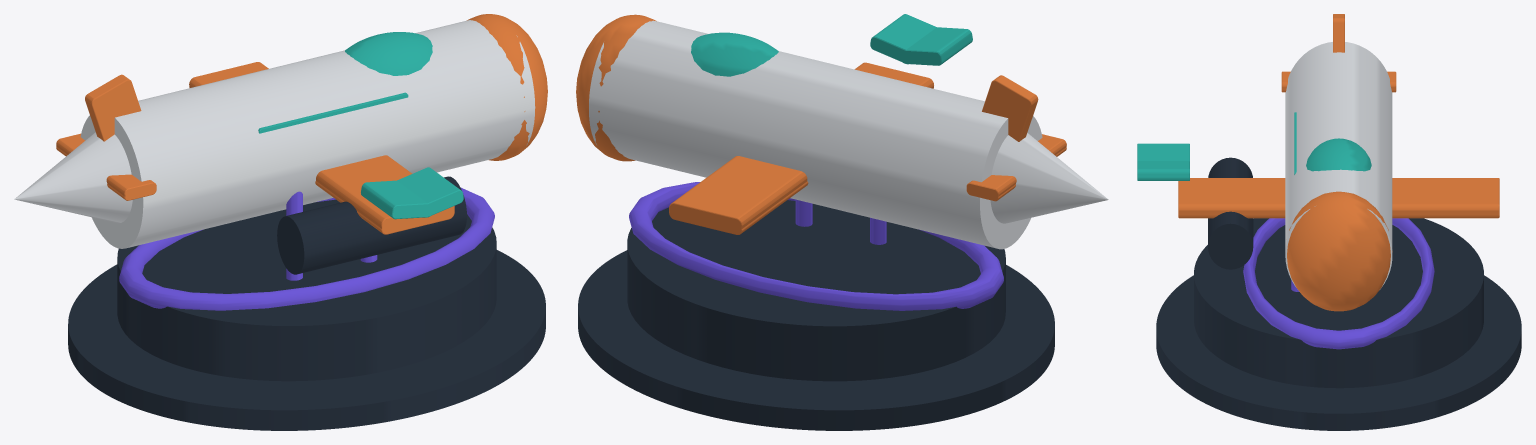
File: 0349_航空航天图鉴_Mavic航拍无人机.glb
3 renders of one model, left to right at view 1: azimuth 30°, elevation 25°; view 2: azimuth 150°, elevation 25°; view 3: azimuth 270°, elevation 25°, orthographic. The views are drawn at different scales.
Visible parts, largest first — view 1: card_0349; view 2: card_0349; view 3: card_0349.
Boxes of the visible parts, x1,y1,x2,y2 form: card_0349: (14,14,547,430); card_0349: (576,14,1108,430); card_0349: (1137,14,1521,430).
Size of the model in its own units: 1.81 by 1 by 1.38.
